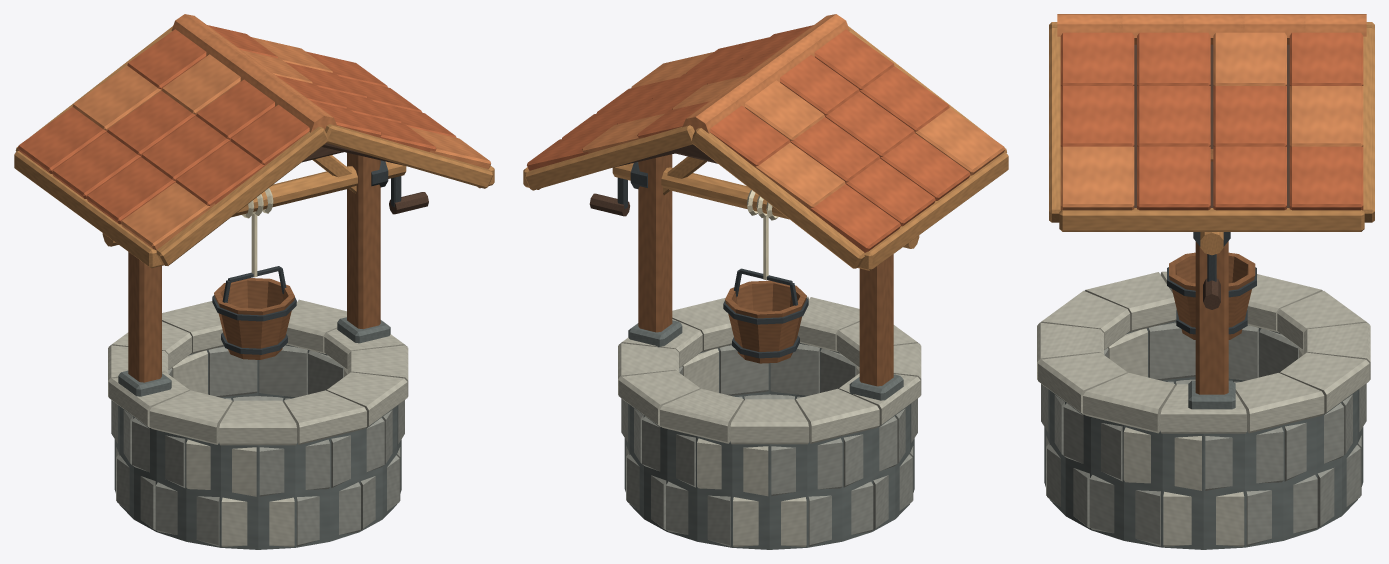
File: well_courtyard.glb
3 views of the same model, side by side, from view 1: azimuth 30°, elevation 25°; view 2: azimuth 150°, elevation 25°; view 3: azimuth 270°, elevation 25° (orthographic). The views are drawn at different scales.
Parts seen in each view (by area): view 1: well_courtyard; view 2: well_courtyard; view 3: well_courtyard.
Boxes of the visible parts, x1,y1,x2,y2 form: well_courtyard: [14, 14, 494, 549]; well_courtyard: [523, 14, 1008, 549]; well_courtyard: [1037, 14, 1374, 549].
Bounding box in the file's own units: 2.15 × 2.5 × 1.64.
Materials: 1 (1 with a texture image).
